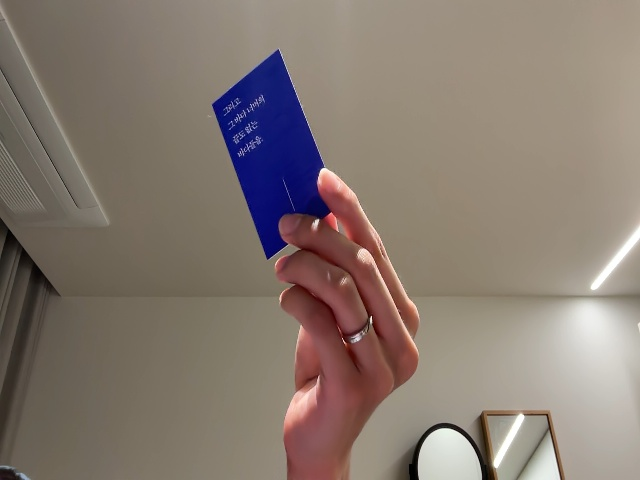card: (210, 47, 346, 261)
